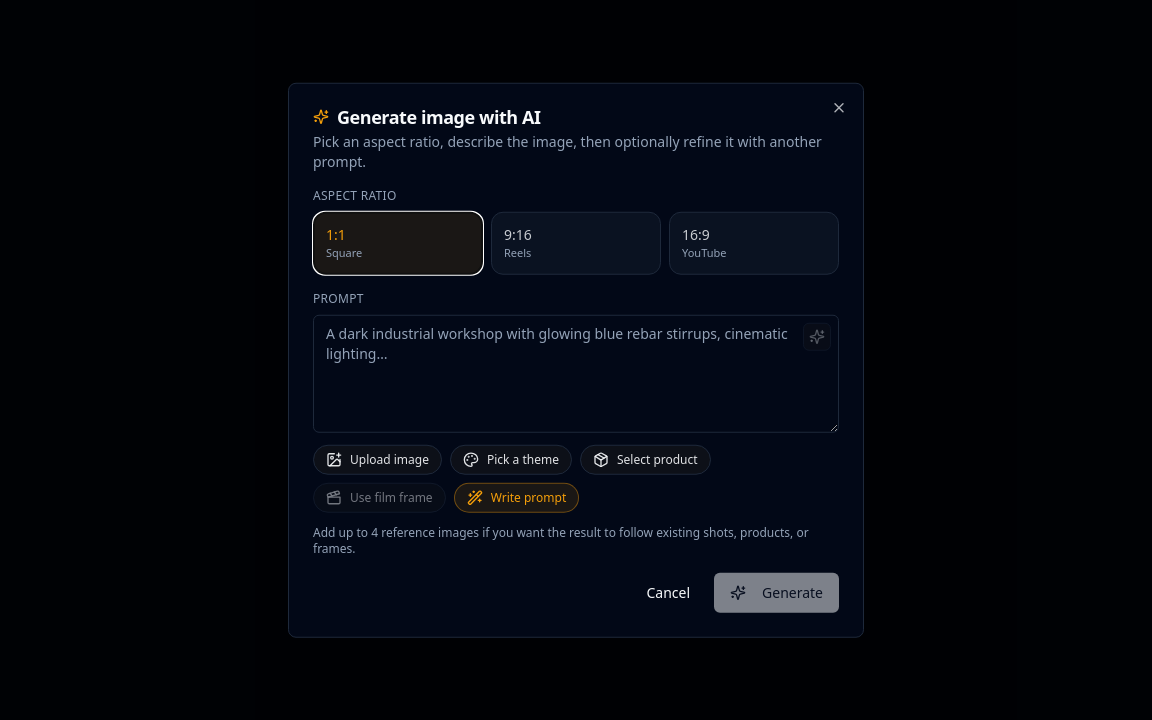
AiImageDialog prompt optimization › keeps the original prompt and shows an error when the call fails
Replace the text in the text box with placeholder "dark industrial workshop with glowing blue rebar stirrups" with "Keep me": (576, 373) [313,314,839,432]
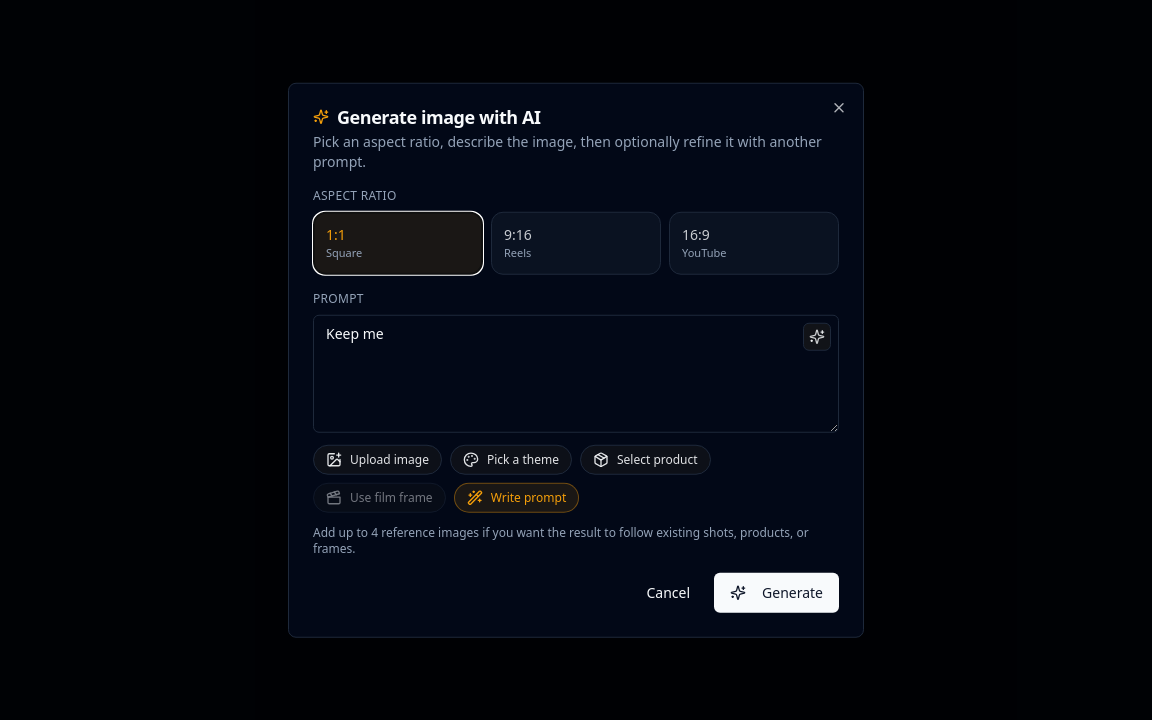
Click the button named "optimize prompt with ai": (817, 336) [803,322,831,350]
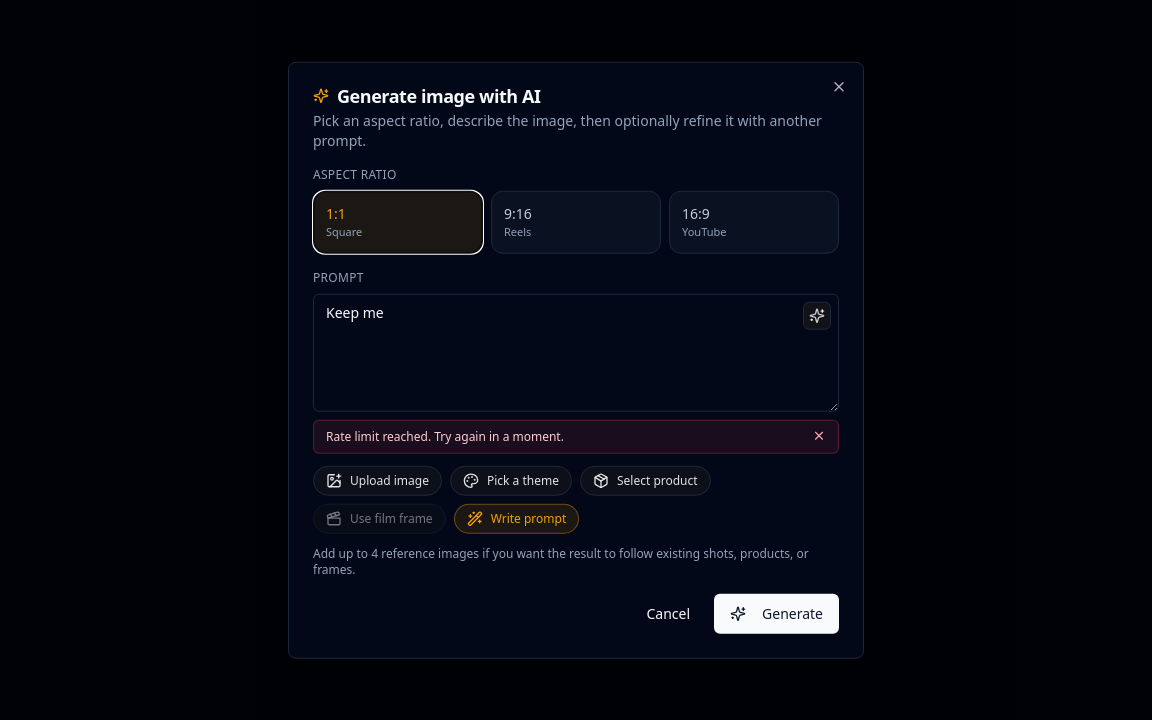
Check: the text "Rate limit reached. Try again in a moment." is shown, box [326,428,564,444]
